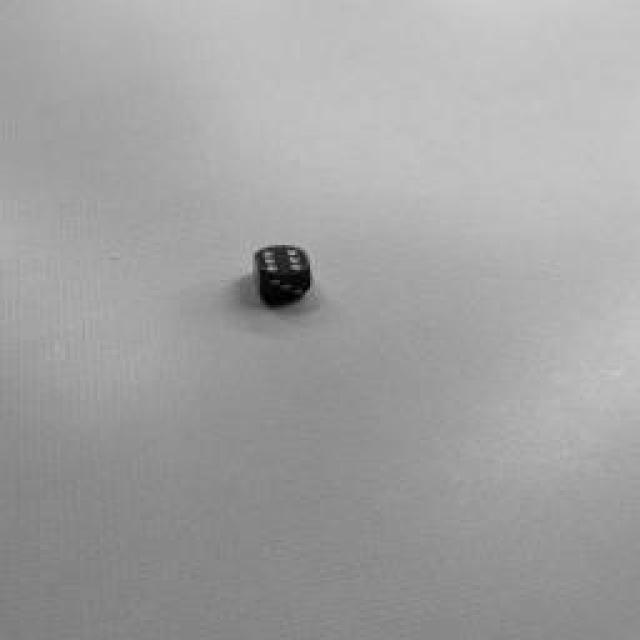dice_6: (255, 245, 310, 275)
